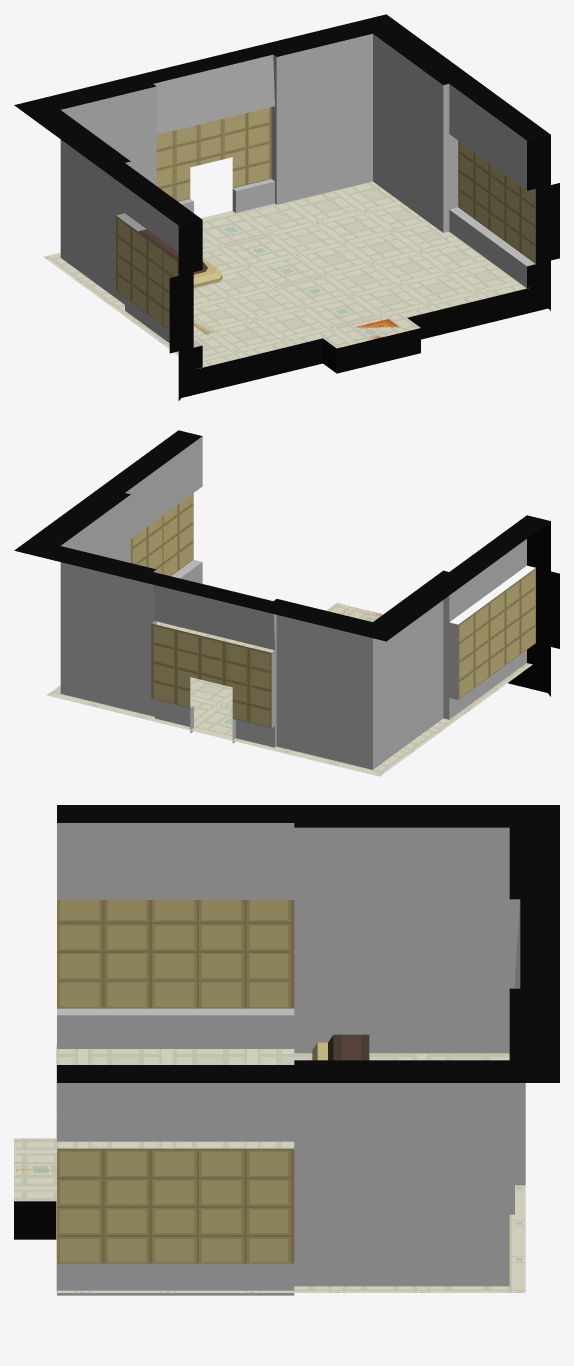
Rendered from ROOM13.obj.
3 renders of one model, top to bottom at view 1: azimuth 30°, elevation 25°; view 2: azimuth 150°, elevation 25°; view 3: azimuth 270°, elevation 25°, orthographic. The views are drawn at different scales.
Visible parts, largest first — view 1: polygon7, polygon0, polygon8, polygon9, polygon1, polygon2, polygon5; view 2: polygon7, polygon8, polygon9, polygon0, polygon2, polygon1; view 3: polygon7, polygon9, polygon8, polygon0, polygon1, polygon2, polygon5.
Part boxes in pixels (bbox=[...]): polygon7: bbox=[60, 33, 535, 347]; polygon0: bbox=[43, 181, 529, 368]; polygon8: bbox=[14, 14, 559, 400]; polygon9: bbox=[116, 107, 535, 329]; polygon1: bbox=[179, 288, 547, 398]; polygon2: bbox=[201, 210, 402, 343]; polygon5: bbox=[138, 229, 222, 287]; polygon7: bbox=[60, 436, 526, 769]; polygon8: bbox=[14, 430, 559, 696]; polygon9: bbox=[131, 493, 535, 728]; polygon0: bbox=[46, 584, 532, 776]; polygon2: bbox=[187, 607, 382, 741]; polygon1: bbox=[508, 668, 547, 692]; polygon7: bbox=[57, 823, 525, 1295]; polygon9: bbox=[57, 900, 294, 1263]; polygon8: bbox=[57, 805, 559, 1082]; polygon0: bbox=[14, 1044, 525, 1292]; polygon1: bbox=[14, 1201, 56, 1239]; polygon2: bbox=[14, 1152, 525, 1187]; polygon5: bbox=[312, 1034, 369, 1060].
Size of the model in its own units: 4.06 by 1.75 by 3.22.
